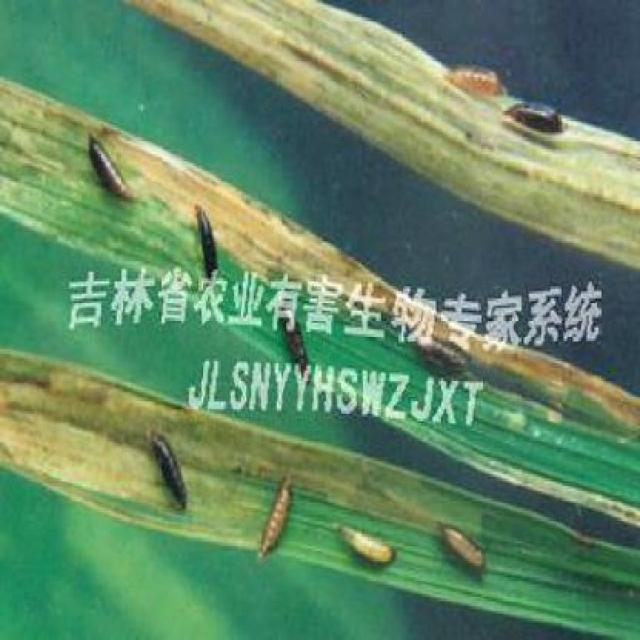whorl-maggot: (328, 499, 404, 578), (242, 464, 298, 568), (80, 128, 142, 212), (430, 502, 492, 580), (141, 423, 193, 515), (502, 85, 568, 137), (443, 59, 503, 102), (190, 207, 221, 273)
